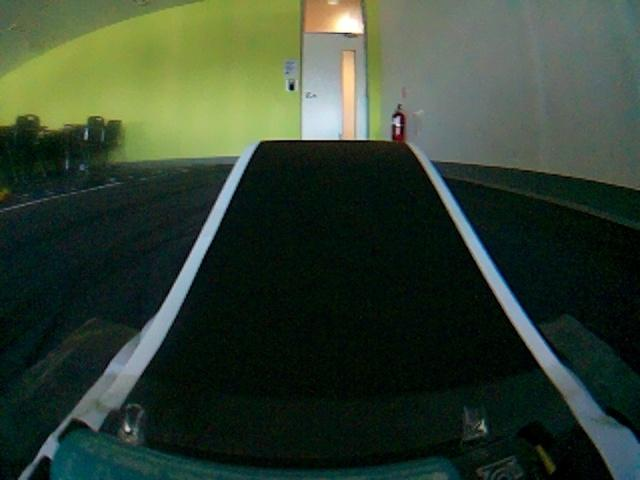hill_up: (33, 143, 640, 480)
